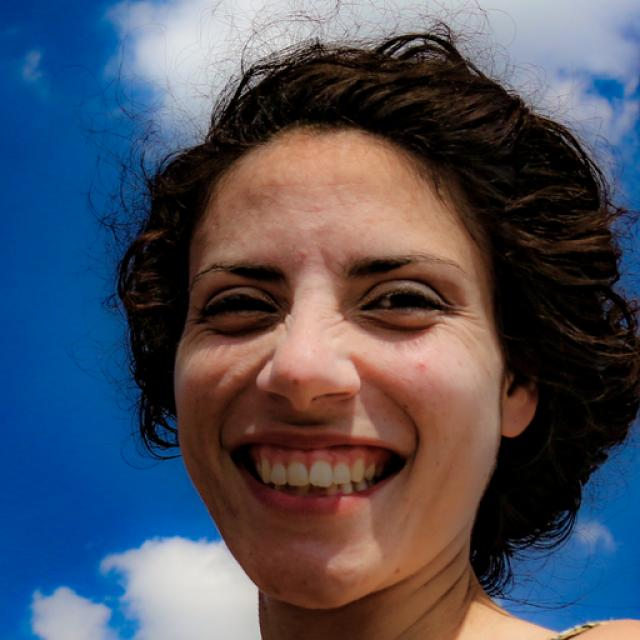Acne: (289, 245, 313, 264), (227, 369, 243, 386), (413, 358, 428, 373), (311, 202, 327, 214)
